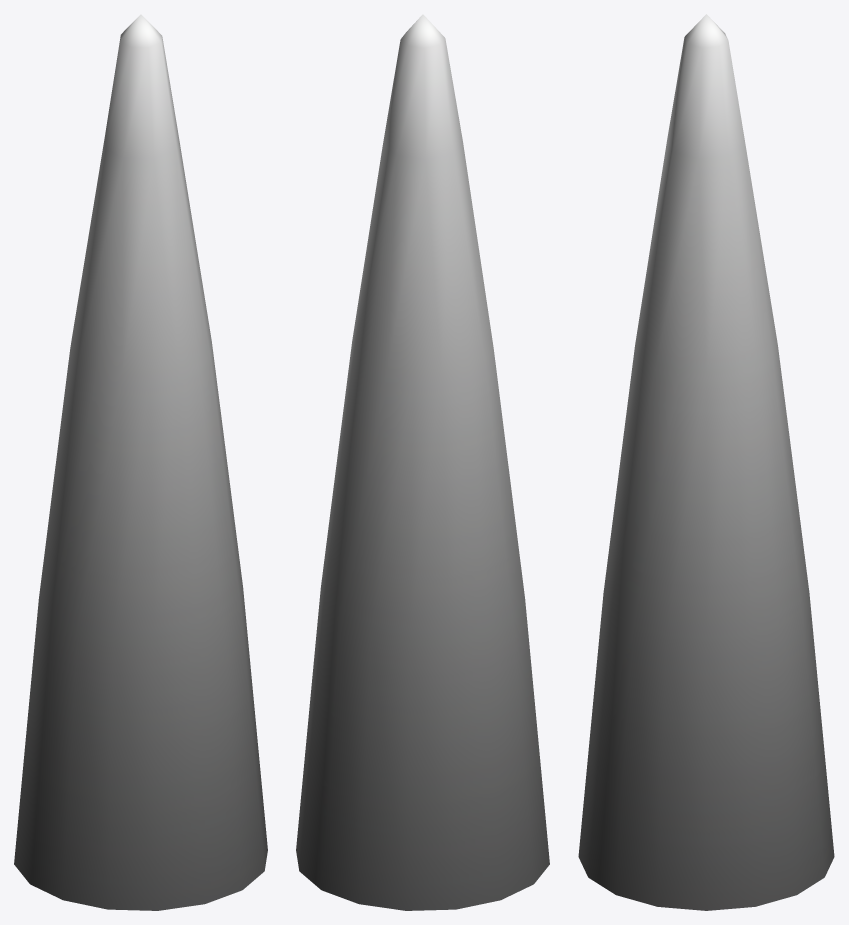
The model's file is Ice_1.fbx.
3 views of the same model, side by side, from view 1: azimuth 30°, elevation 25°; view 2: azimuth 150°, elevation 25°; view 3: azimuth 270°, elevation 25° (orthographic).
Parts seen in each view (by area): view 1: Ice_1; view 2: Ice_1; view 3: Ice_1.
Part boxes in pixels (x1,y1,x2,y2): Ice_1: (14, 14, 267, 910); Ice_1: (296, 14, 549, 910); Ice_1: (578, 14, 834, 910).
Bounding box in the file's own units: 0.8105 × 2.94 × 0.8105.
